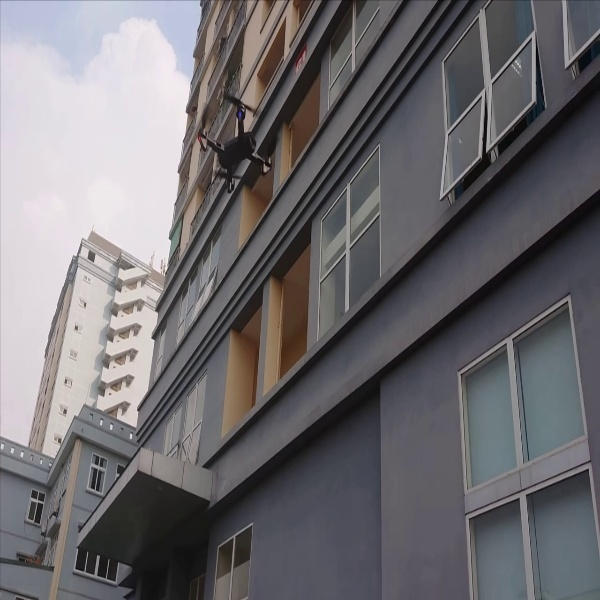drone: (182, 79, 292, 204)
